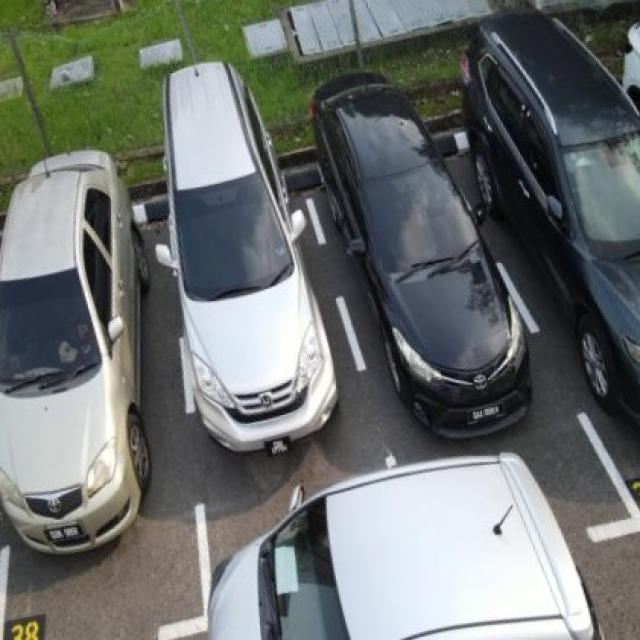Legalparking: (0, 7, 640, 503)
illegalparking: (137, 448, 640, 640)
